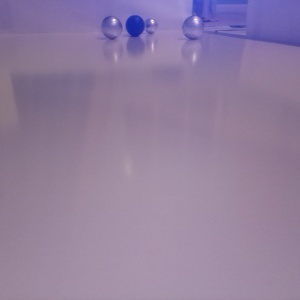alive_ball: (101, 15, 123, 40), (182, 15, 204, 40), (144, 18, 158, 34)
dead_ball: (125, 15, 145, 37)
